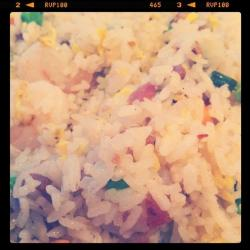rice: (15, 40, 210, 214)
